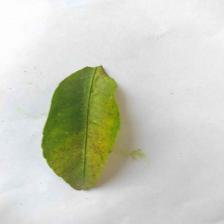greening: (27, 78, 134, 179)
